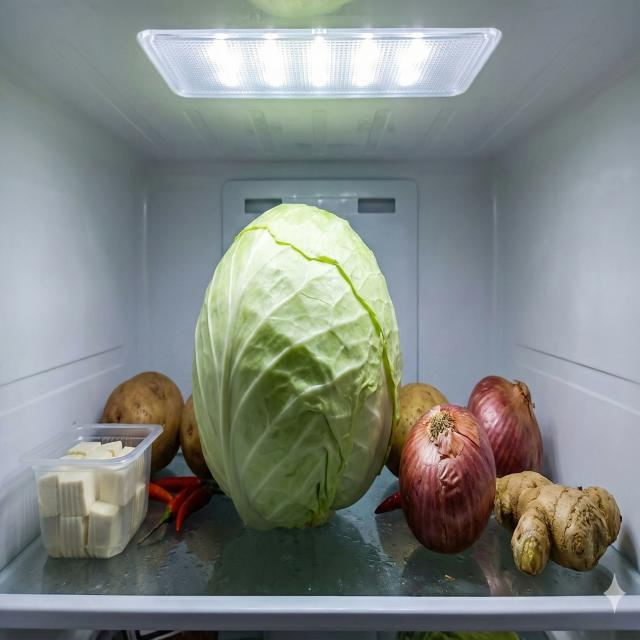cabbage: (192, 202, 404, 532)
chili: (137, 474, 214, 549)
ginger: (495, 472, 622, 578)
onion: (399, 376, 543, 555)
potato: (100, 372, 211, 477), (386, 382, 452, 478)
tofu: (36, 440, 148, 558)
